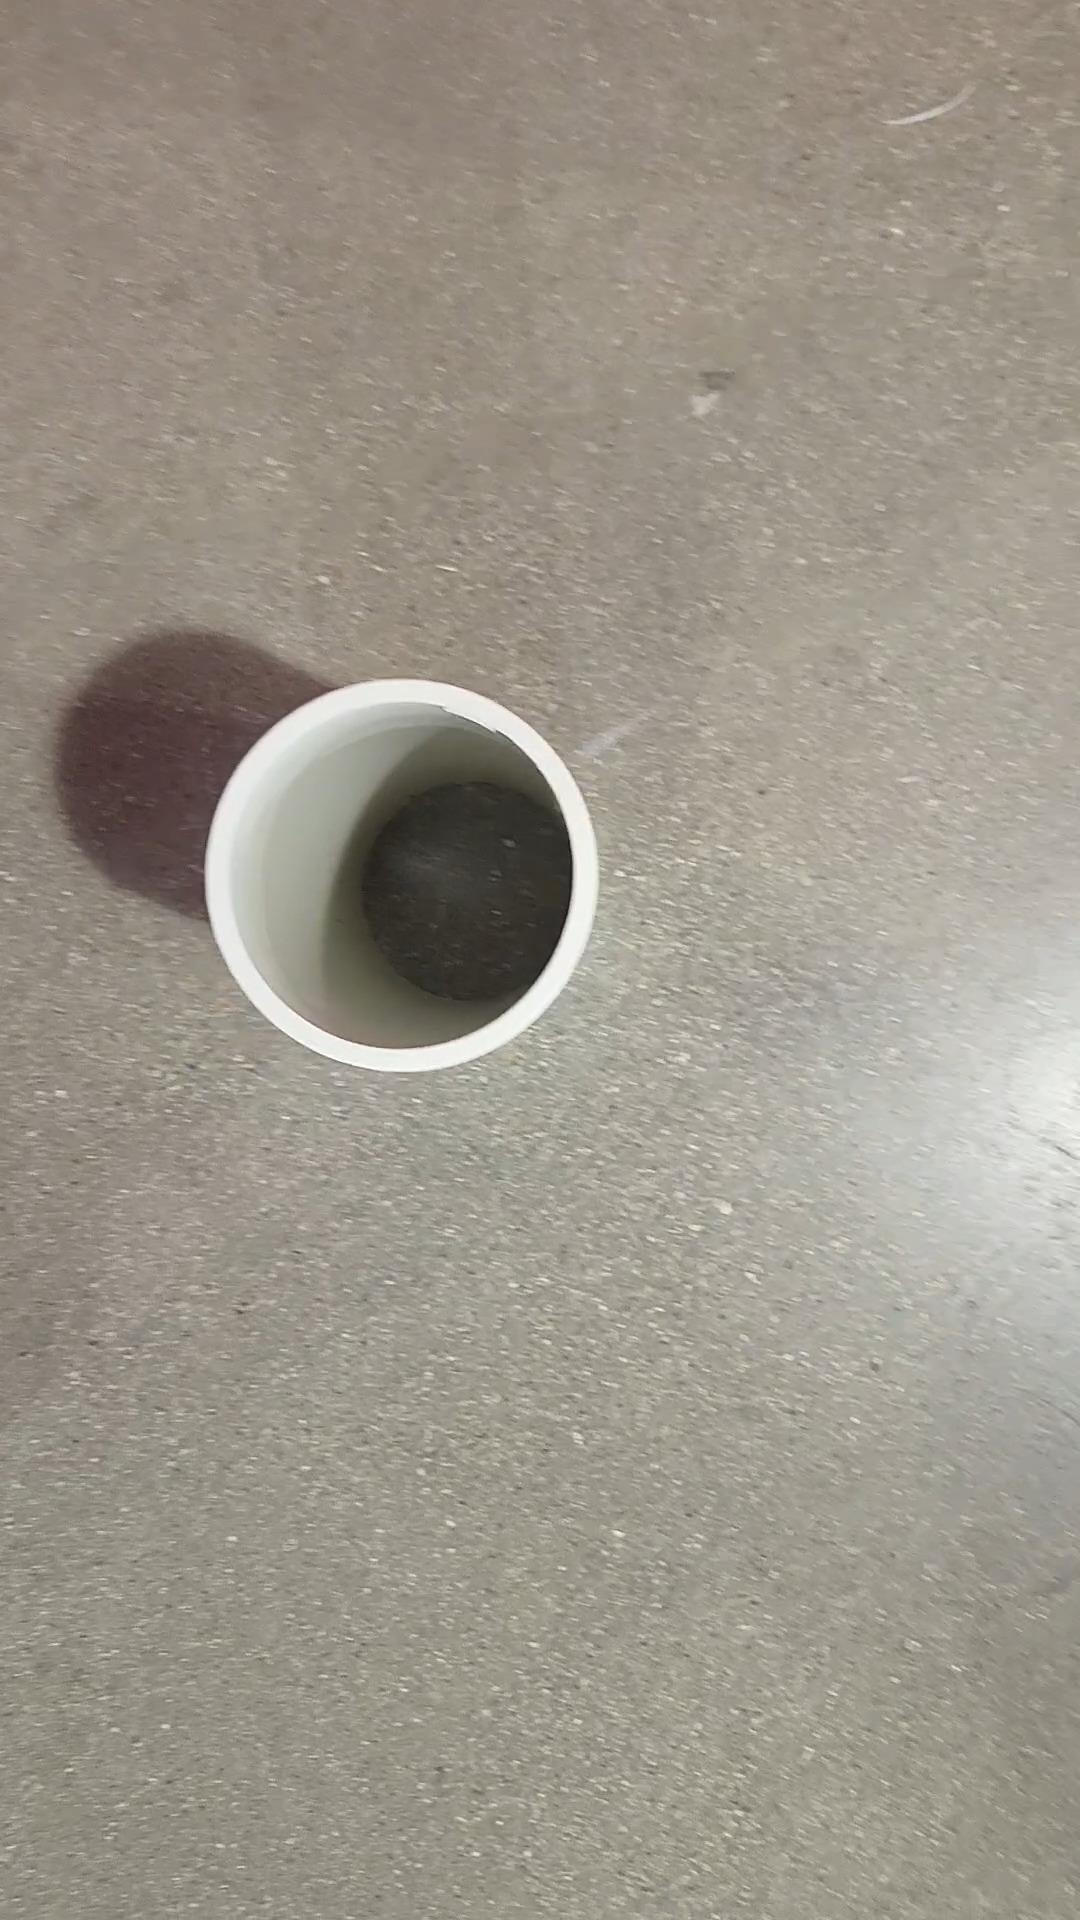coral: (203, 665, 607, 1080)
